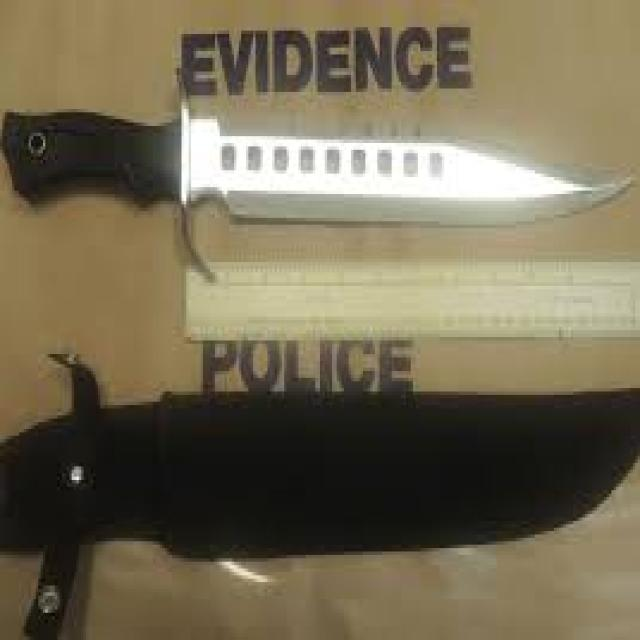knives: (2, 90, 640, 239)
